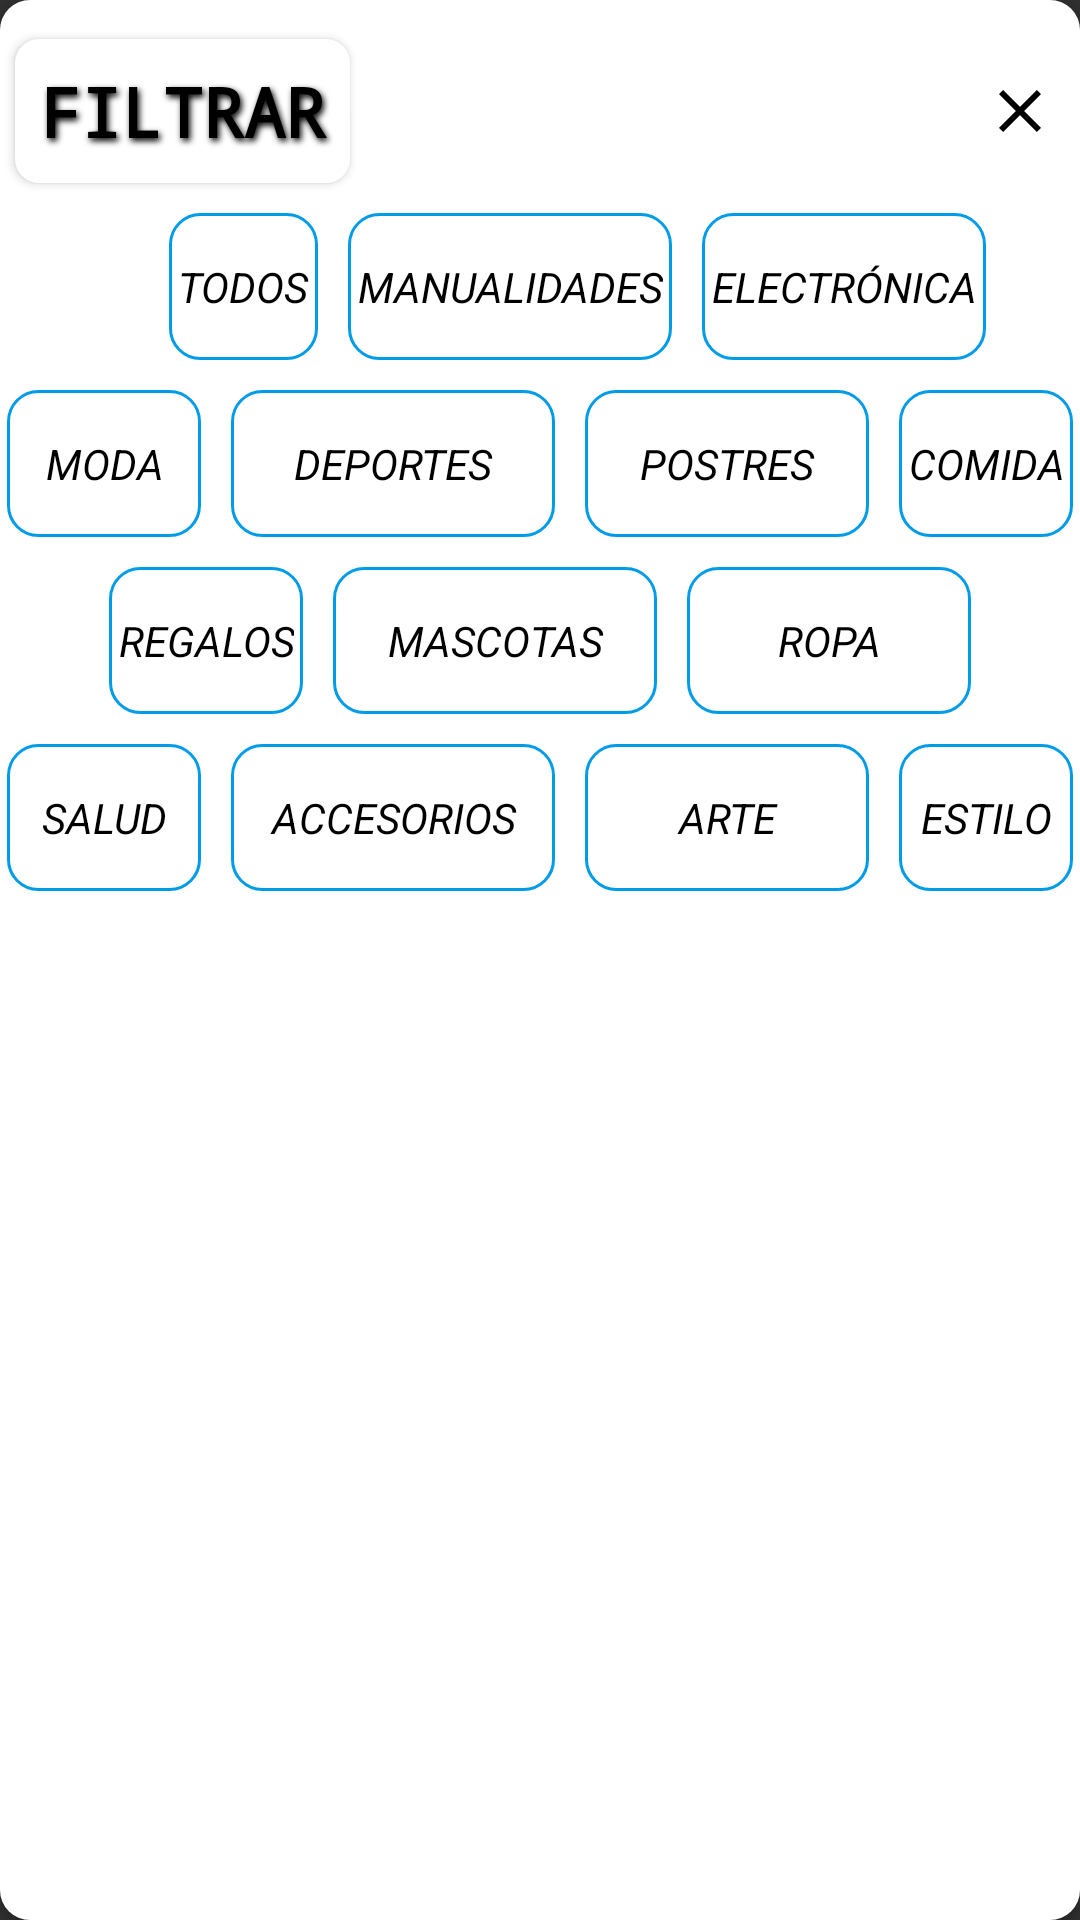

Locate icon controls on the screen. Image size 1080px x 1920px, boxes as (x1, y1, x2, y2).
close: (999, 90, 1041, 132)
